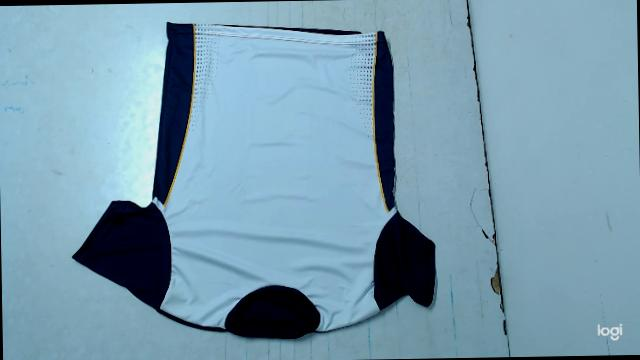new-garment: (74, 23, 436, 338)
